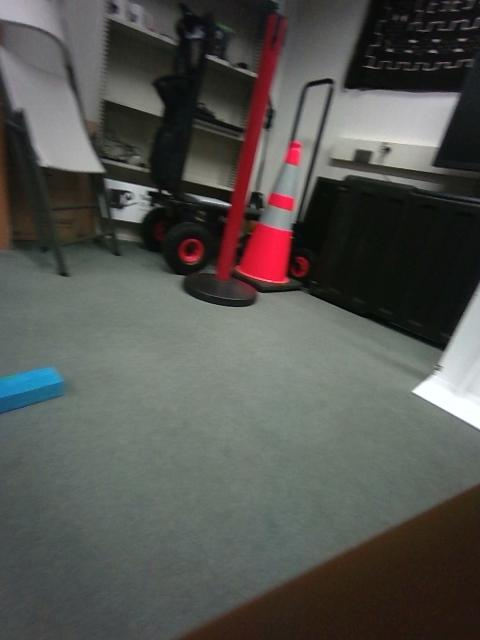block: (126, 277, 153, 337)
